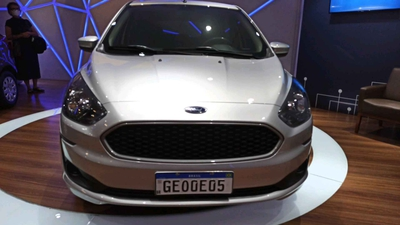Frontal Veiculo: (59, 1, 317, 210)
